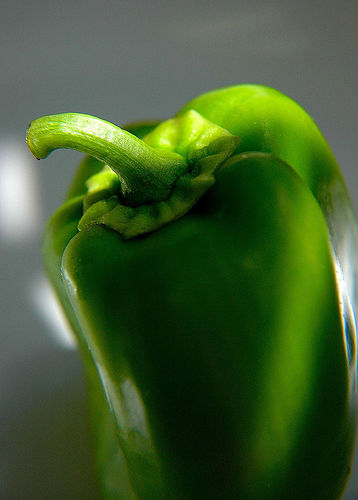capsicum: (27, 85, 356, 498)
